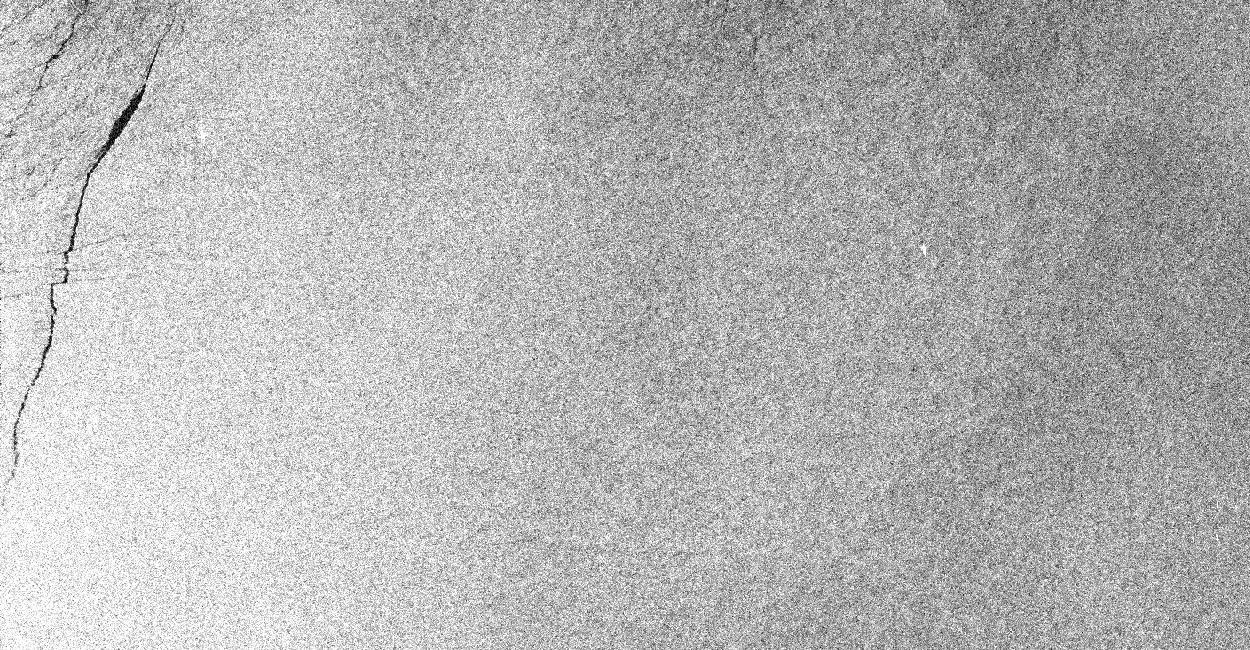Look-alike: (34, 6, 82, 91)
Oil Spill: (62, 82, 146, 262), (30, 334, 52, 386), (48, 266, 70, 314), (144, 48, 158, 80), (10, 418, 20, 452), (18, 392, 28, 418), (12, 452, 20, 468), (50, 314, 56, 329), (10, 472, 14, 478)
